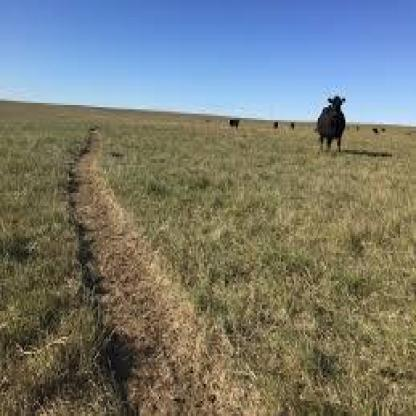cow: (315, 96, 350, 154), (229, 112, 242, 127)
